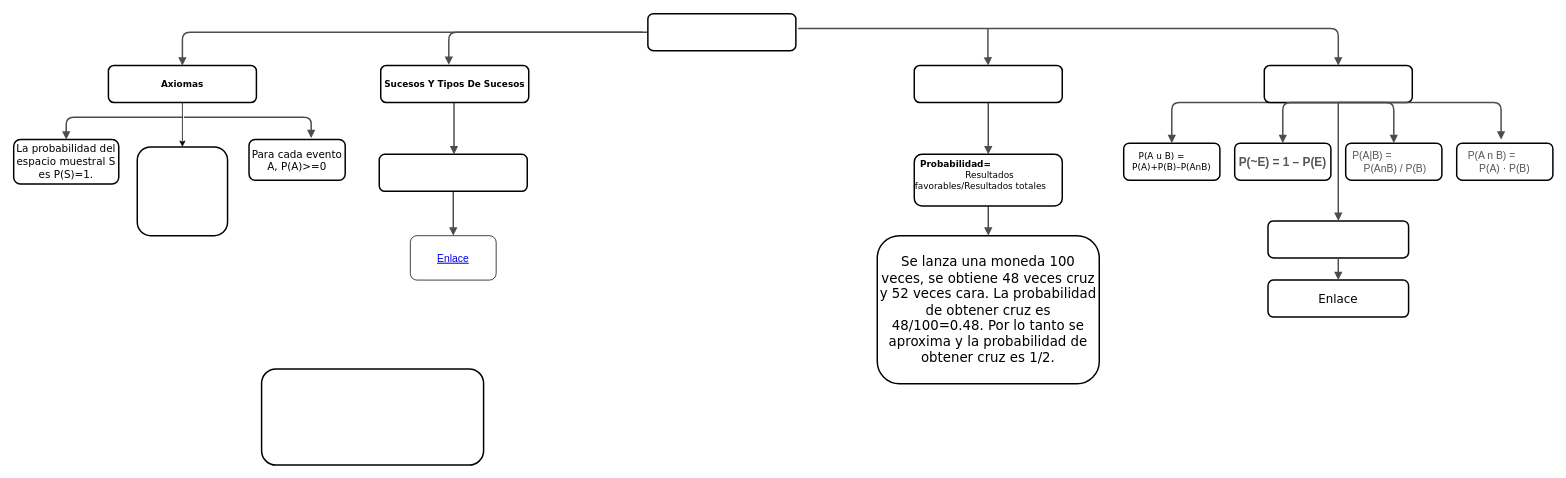
Some shapes in this 1566 by 478 pixel diagram are drawn without their labels. The centre of each missing label's shape, as x and y in pixels:
Leyes De La Probabilidad: (1338,83)
Para eventos diferentes sean A1, A2, A3... P(A1UA2UA3...) es P(A1)+P(A2)...: (182,191)
Probabilidad: (721,32)
Probabilidad De Un Suceso: (988,83)
¿Dónde encuentro ejemplos de este tema?: (453,172)
¿Dónde encuentro un resumen de estas leyes?: (1338,239)
